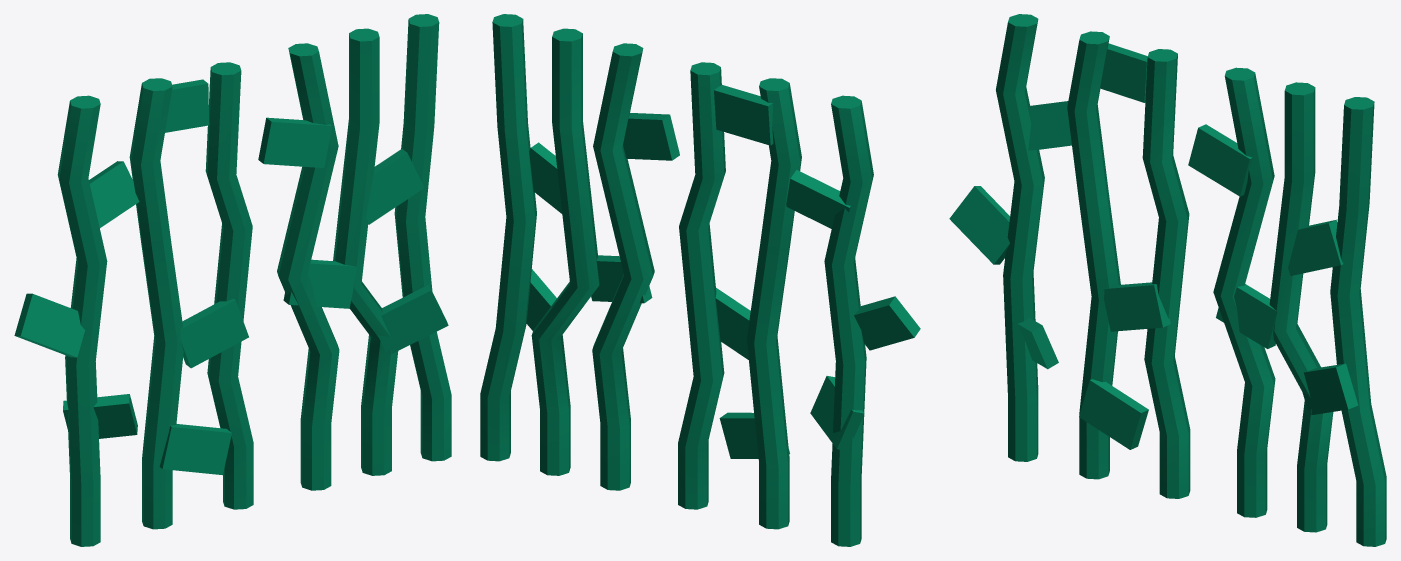
The model's file is vine_01.fbx.
3 renders of one model, left to right at view 1: azimuth 30°, elevation 25°; view 2: azimuth 150°, elevation 25°; view 3: azimuth 330°, elevation 25°, orthographic.
Parts seen in each view (by area): view 1: pCylinder7; view 2: pCylinder7; view 3: pCylinder7.
Part boxes in pixels (x1,y1,x2,y2): pCylinder7: (14,14,451,546); pCylinder7: (480,14,920,546); pCylinder7: (949,14,1386,546).
Size of the model in its own units: 107 by 103 by 12.78.
